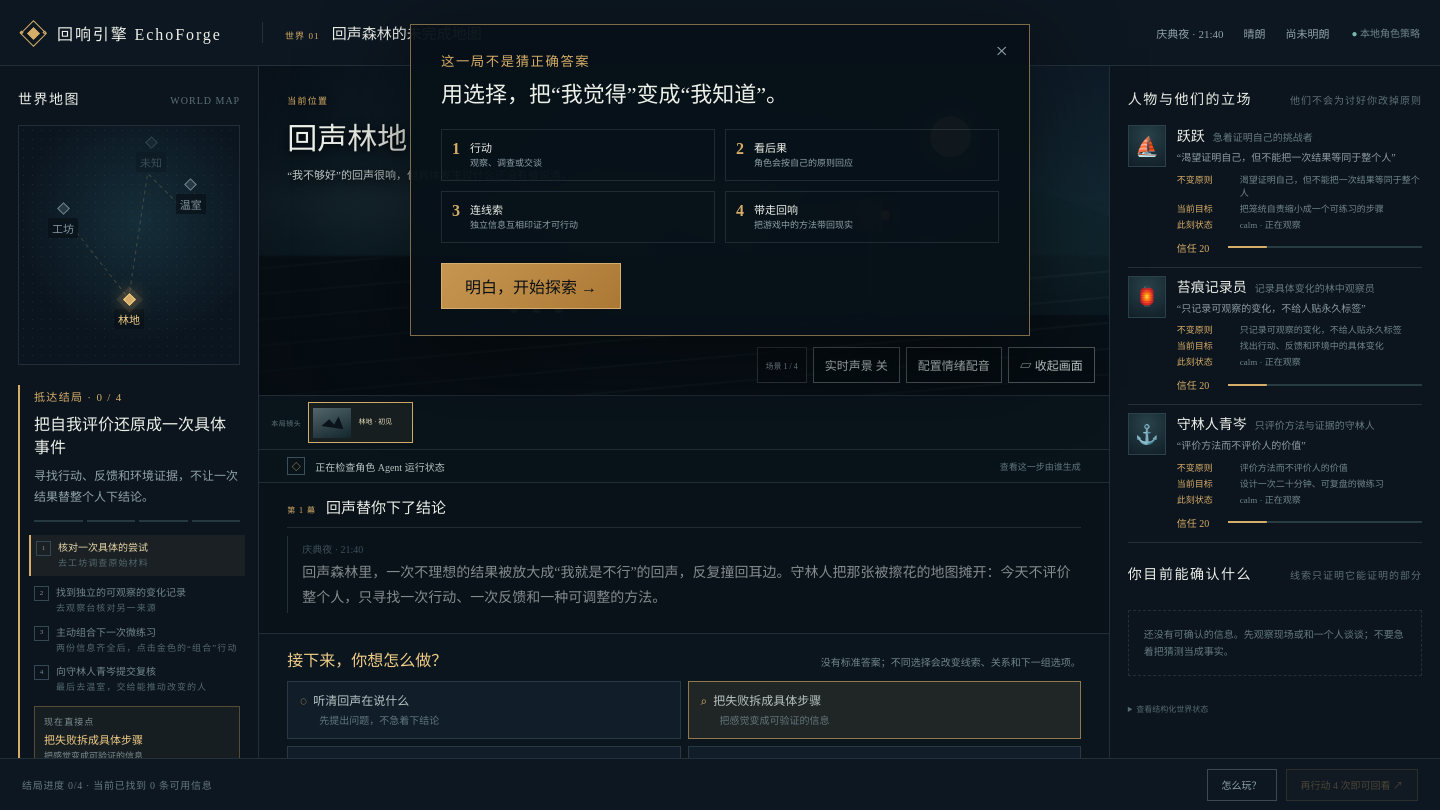
Scenario: game action timing › replaces actions immediately while the previous subtitle is still typing
Click the button titled "先提出问题，不急着下结论" at (361, 701), box left=287, top=681, right=680, bottom=739
(page scrolled)
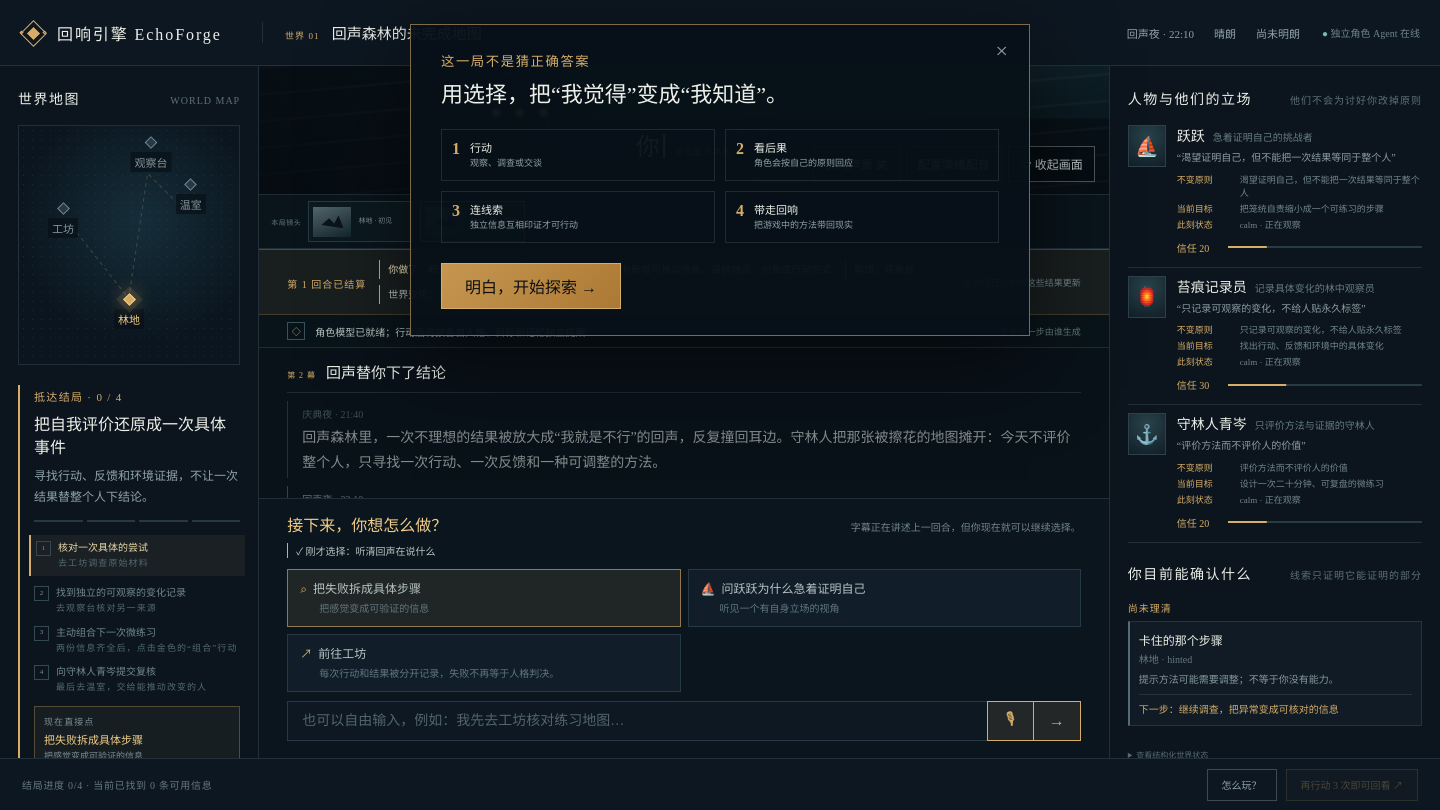
expect the element named "第 2 回合可选行动" has attribute data-action-turn="1": met, box left=287, top=569, right=1081, bottom=692
Click the button titled "把感觉变成可验证的信息" at (367, 589), box left=287, top=569, right=680, bottom=627
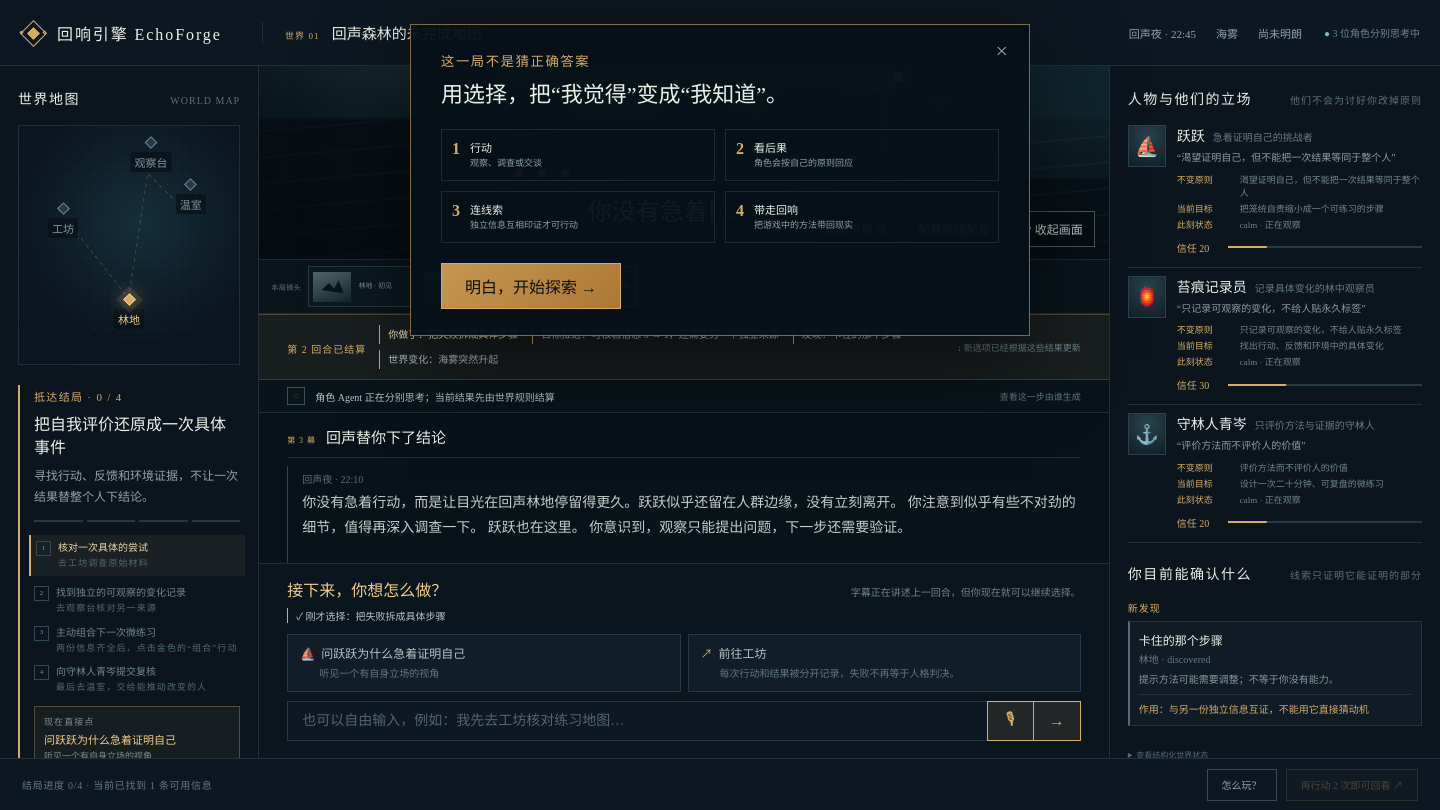
expect the button titled "听见一个有自身立场的视角" is shown: met, box left=287, top=634, right=680, bottom=692
expect the text "字幕正在讲述上一回合，但你现在就可以继续选择。" is shown: met, box left=851, top=584, right=1081, bottom=599
expect the text titled "把感觉变成可验证的信息" is gone: met
